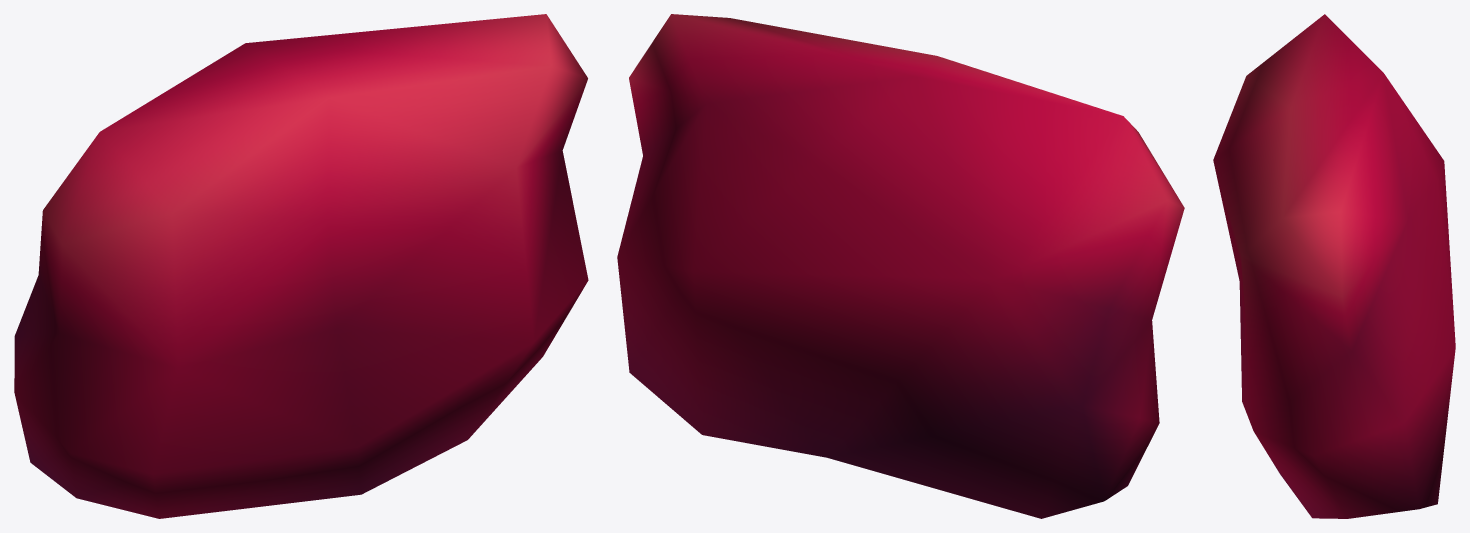
The model's file is TSP_Pillow_01G.fbx.
3 views of the same model, side by side, from view 1: azimuth 30°, elevation 25°; view 2: azimuth 150°, elevation 25°; view 3: azimuth 270°, elevation 25° (orthographic). The views are drawn at different scales.
Visible parts, largest first — view 1: TSP_Pillow_01G; view 2: TSP_Pillow_01G; view 3: TSP_Pillow_01G.
Boxes of the visible parts, left/top/right/bottom form: TSP_Pillow_01G: left=14, top=14, right=588, bottom=518; TSP_Pillow_01G: left=617, top=14, right=1184, bottom=518; TSP_Pillow_01G: left=1213, top=14, right=1455, bottom=518.
Bounding box in the file's own units: 0.8467 × 0.6223 × 0.3639.
